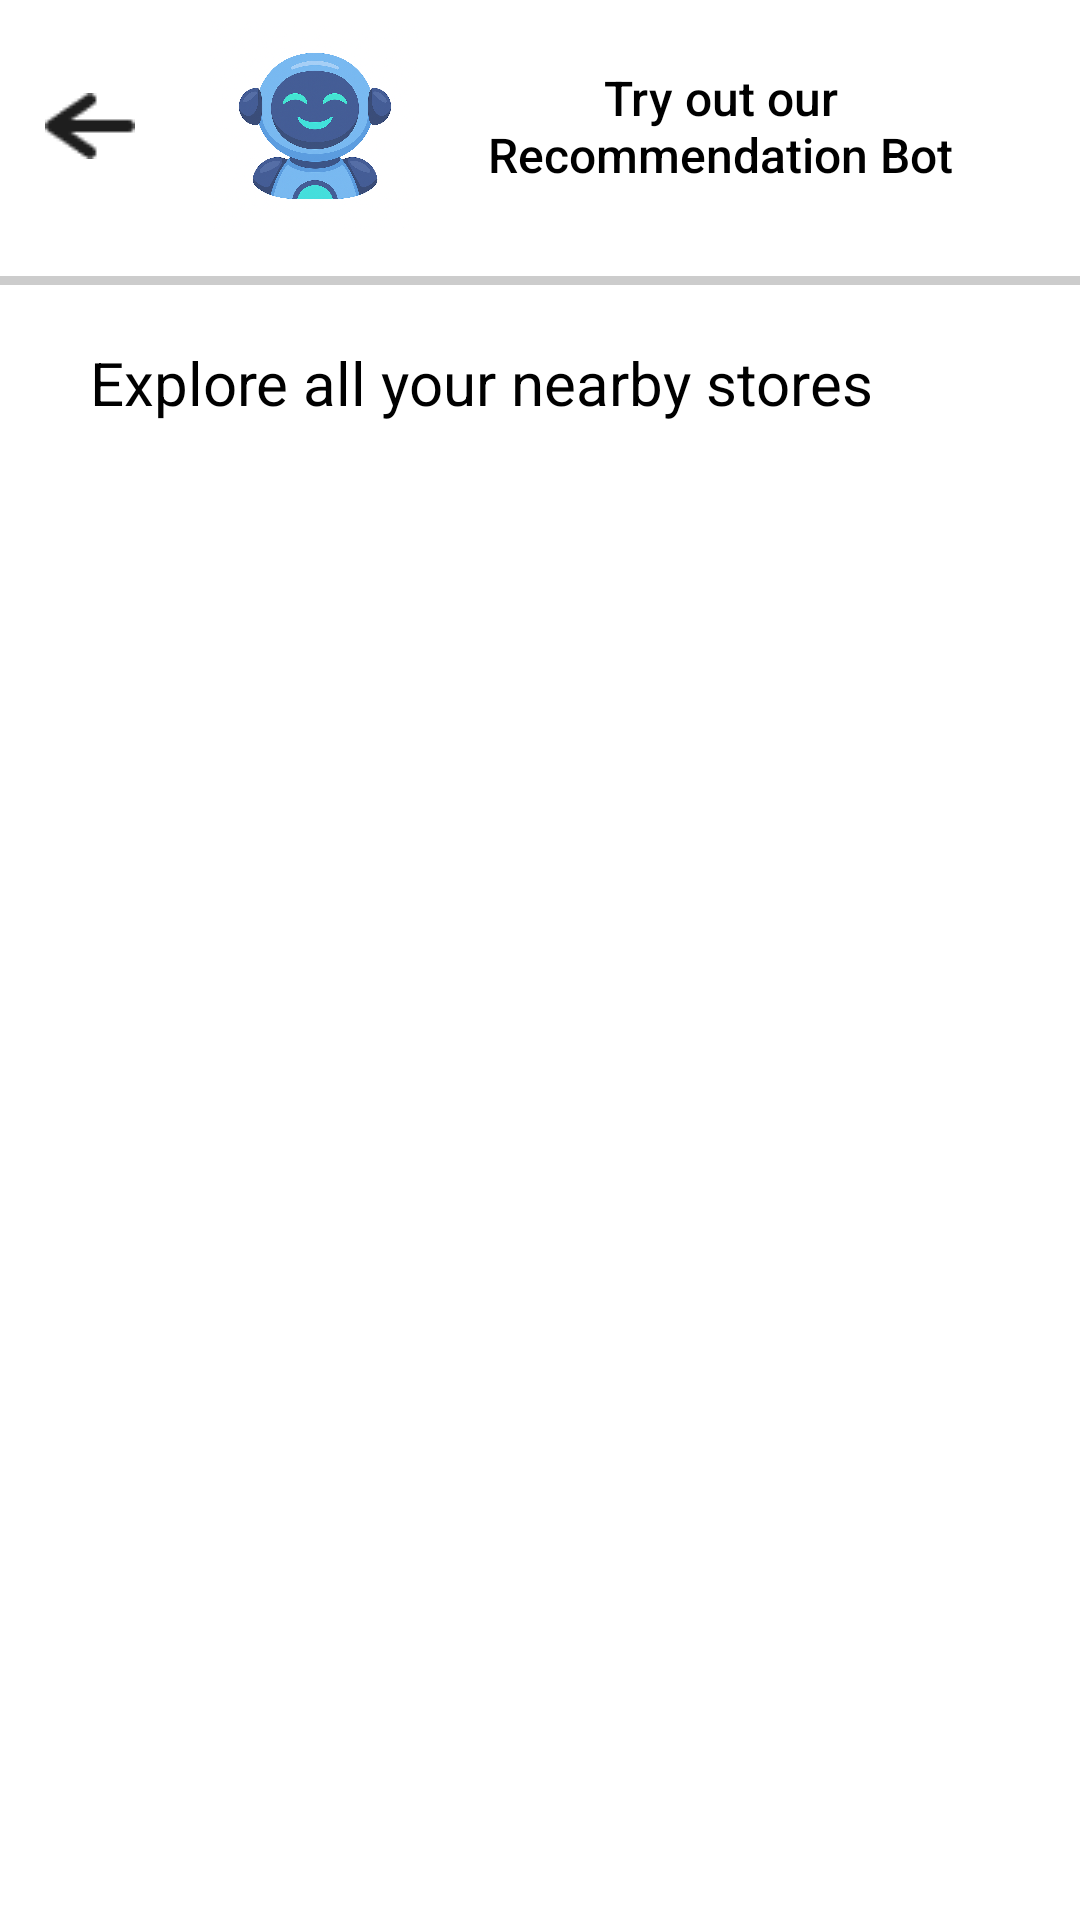

Point at icon controls on the screen. Image size 1080w x 1920h, points as (x=x, y=y).
recom bot: (x=315, y=126)
